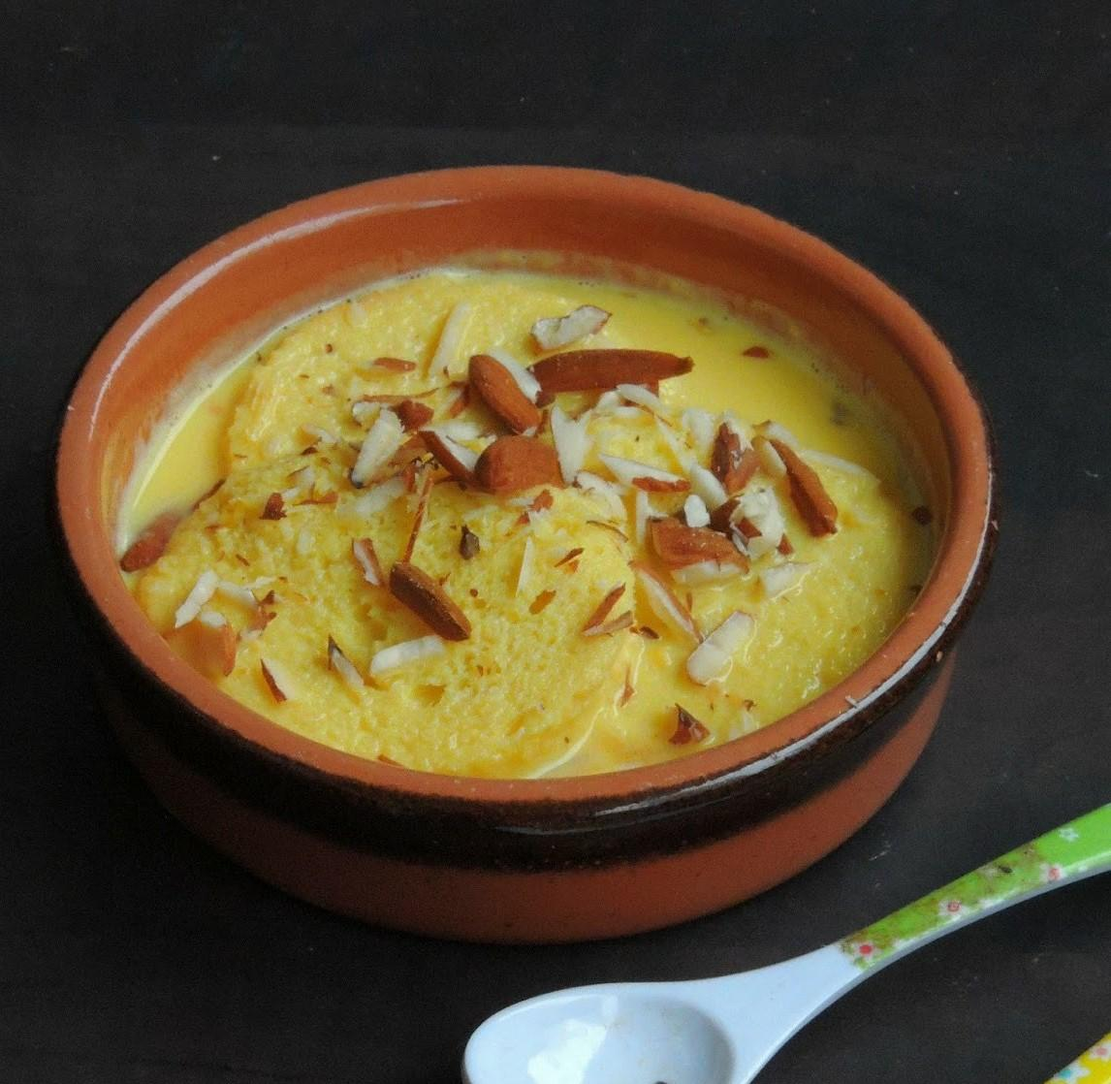RasMalai: (124, 270, 929, 774)
